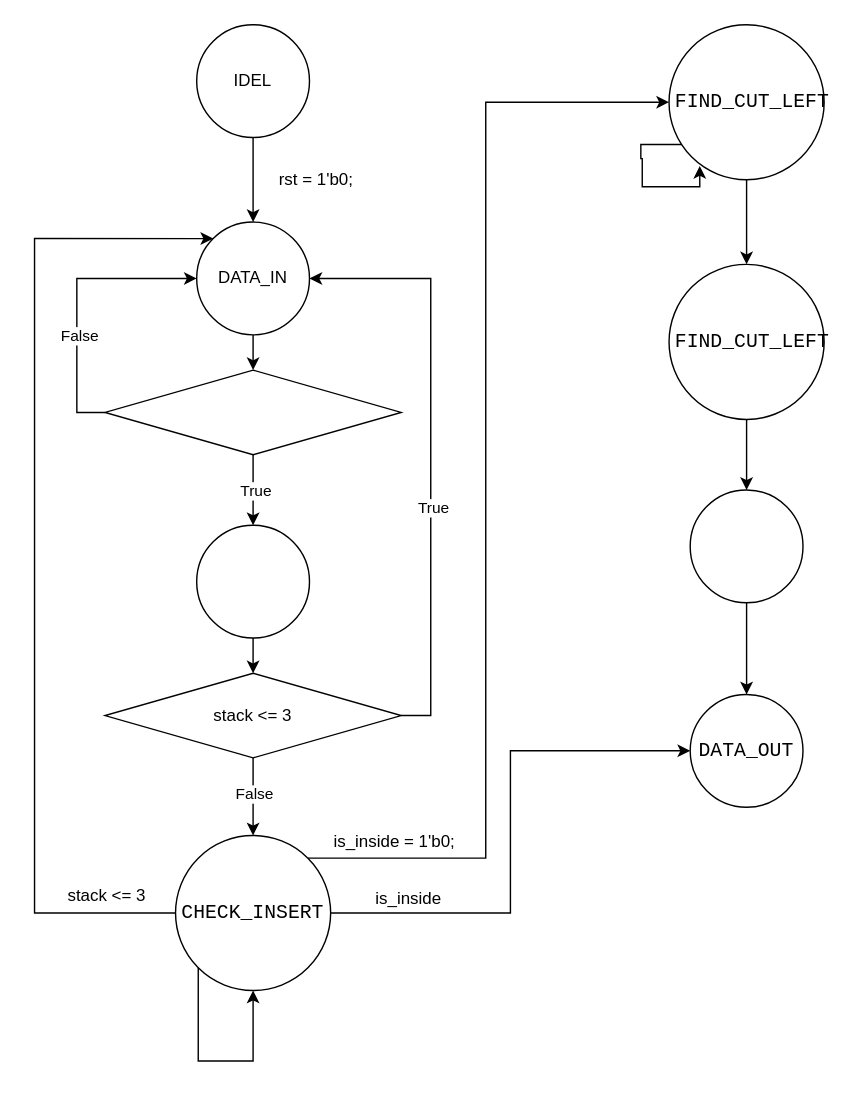
This 854x1097 diagram has some shape labels left out. The centre of each missing label's shape, as x and y in pixels:
"(count <= 4;d4)?" goes at point (252, 412).
"INSERT_NEW" goes at point (746, 546).
"SORT" goes at point (252, 581).
